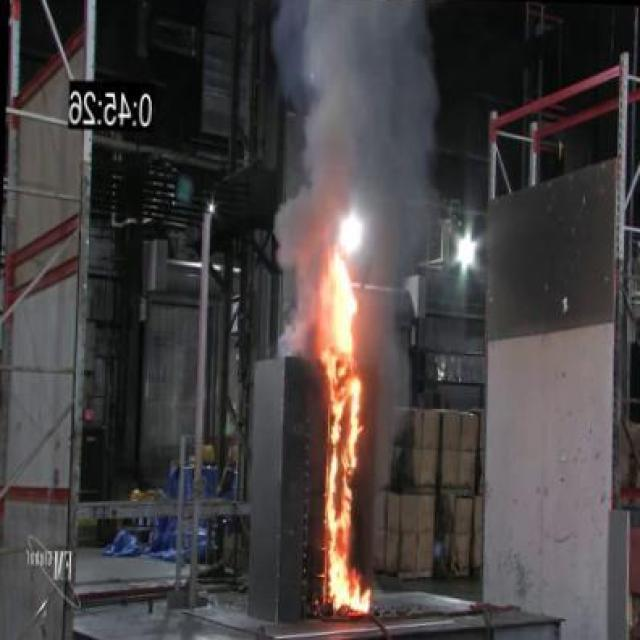fire: (268, 0, 438, 239)
smoke: (320, 372, 375, 617), (313, 252, 359, 367)
